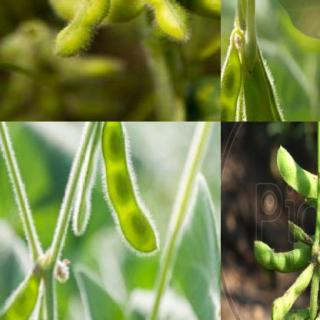soya: (102, 122, 160, 256), (54, 0, 122, 56), (117, 0, 192, 42), (272, 263, 314, 319), (276, 144, 319, 198), (47, 0, 143, 23), (252, 240, 312, 272), (262, 77, 297, 121), (221, 50, 242, 121), (4, 282, 40, 319), (162, 0, 220, 22), (239, 74, 265, 120), (272, 307, 309, 319)
